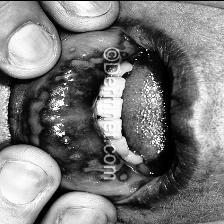Toxin: (24, 86, 52, 142), (68, 46, 102, 68), (80, 156, 104, 174)
